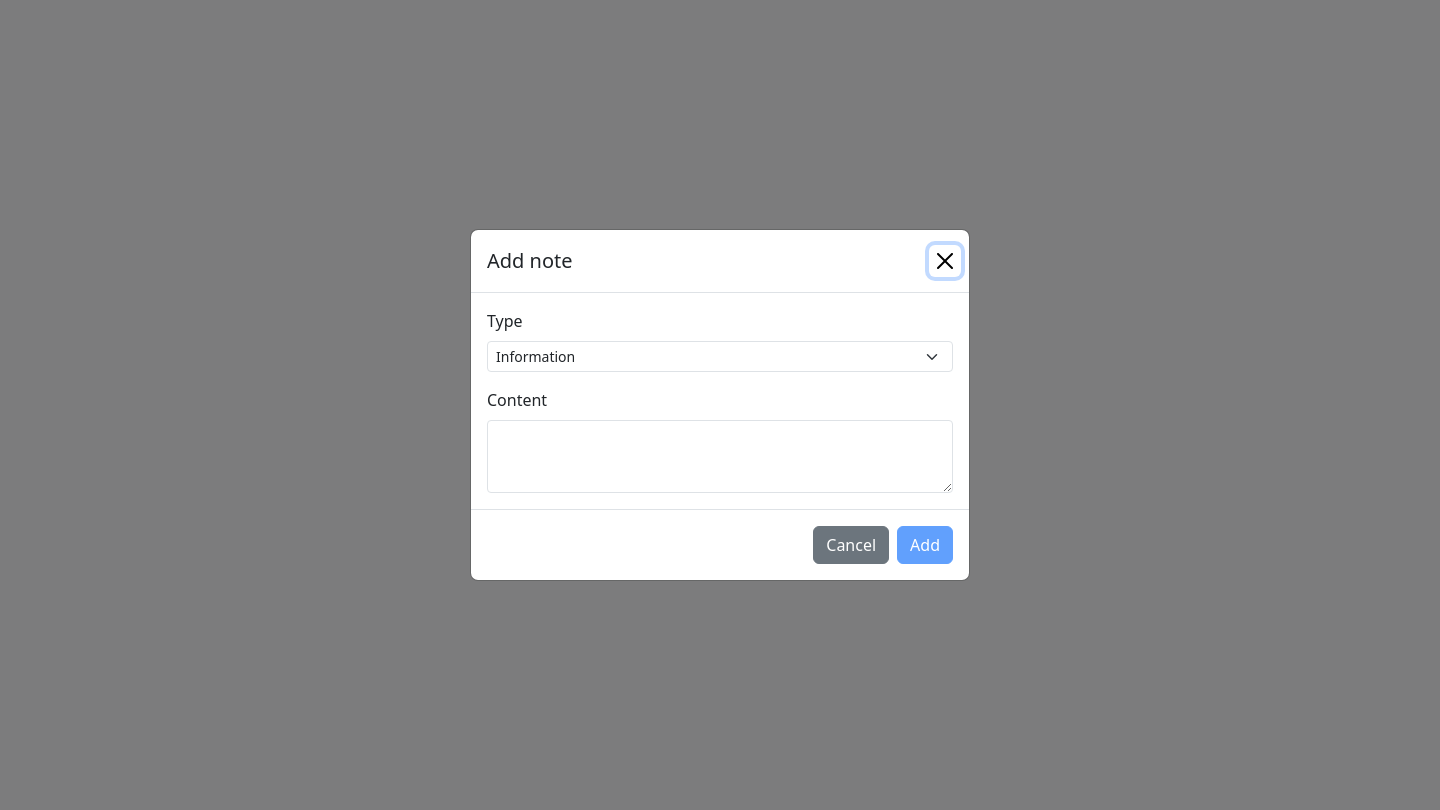
it: NoteModal › shows URL and Title fields when type is Source
Select "Source" in the dropdown labelled "Type": (720, 356) [487,341,953,372]
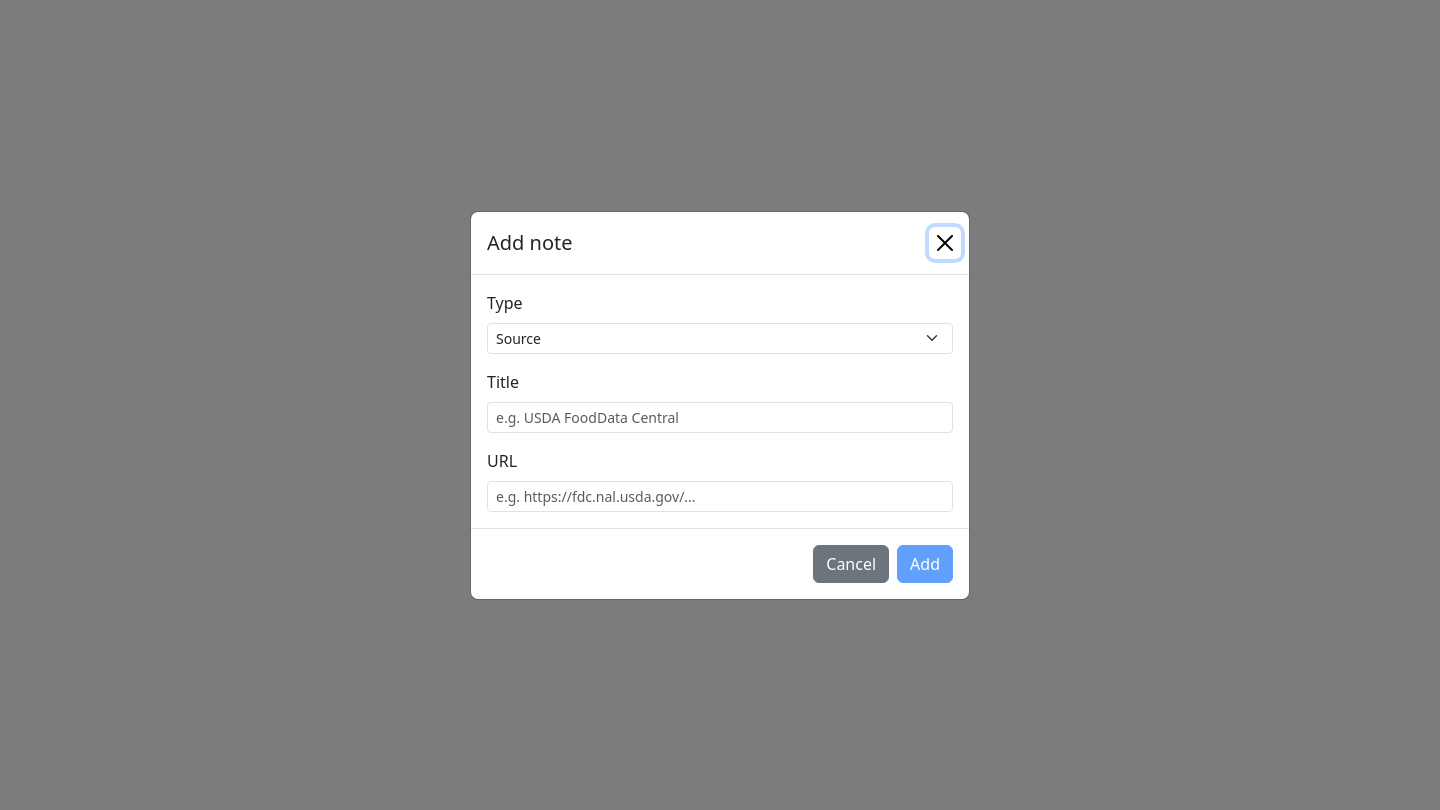
Result: the field labelled "URL" is shown at [487,480,953,512]
Result: the field labelled "Title" is shown at [487,402,953,432]
Result: the label labelled "Content" is gone
